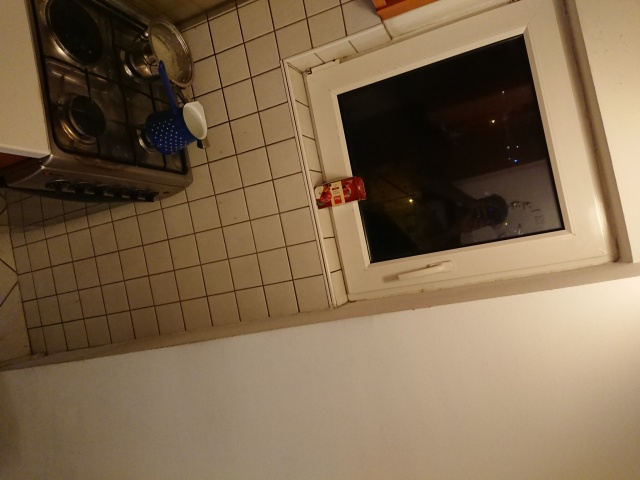Franck Apple Cinnamon Tea 60g: (311, 172, 368, 211)
